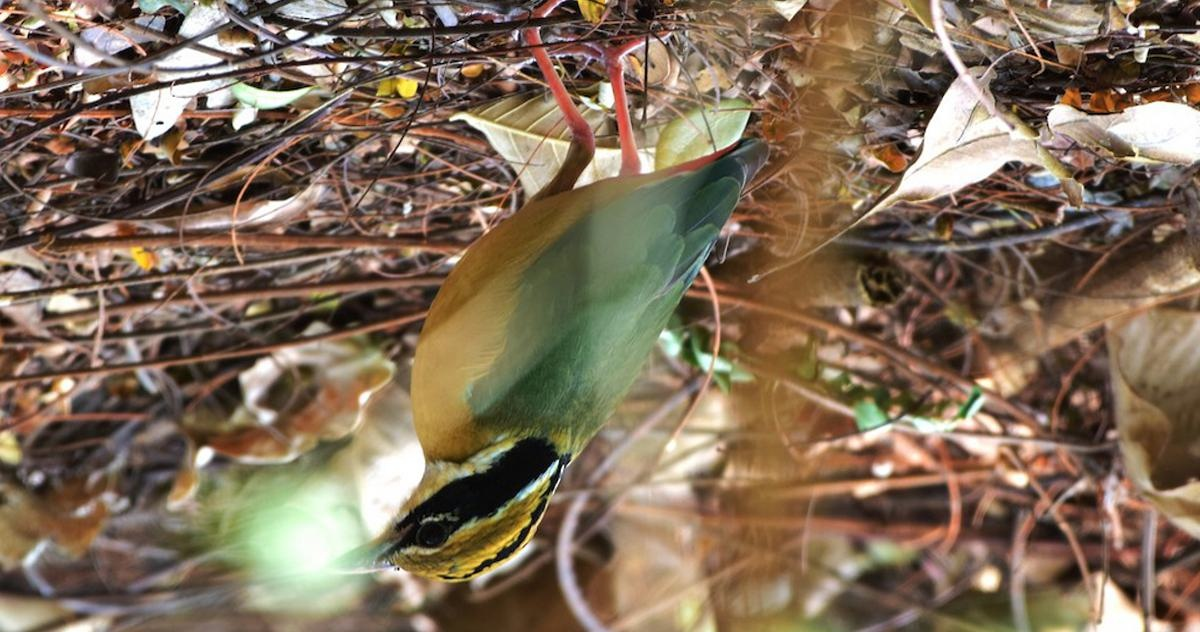pitta: (335, 1, 771, 599)
